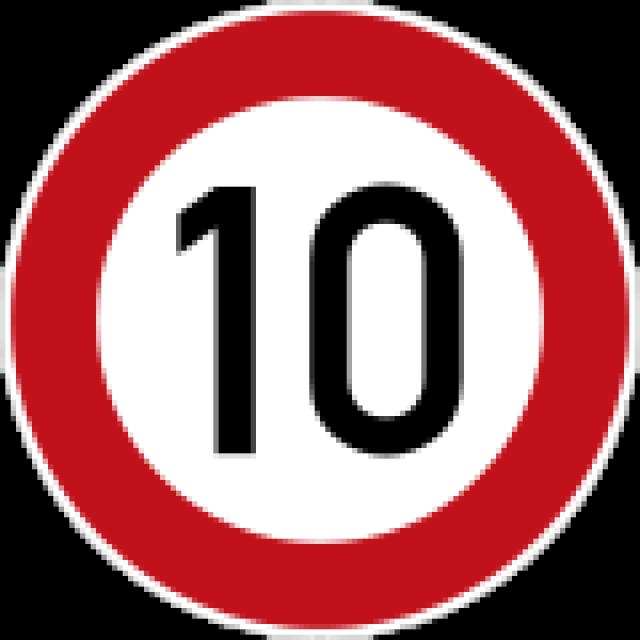Speed Limit -10-: (177, 182, 470, 458)
